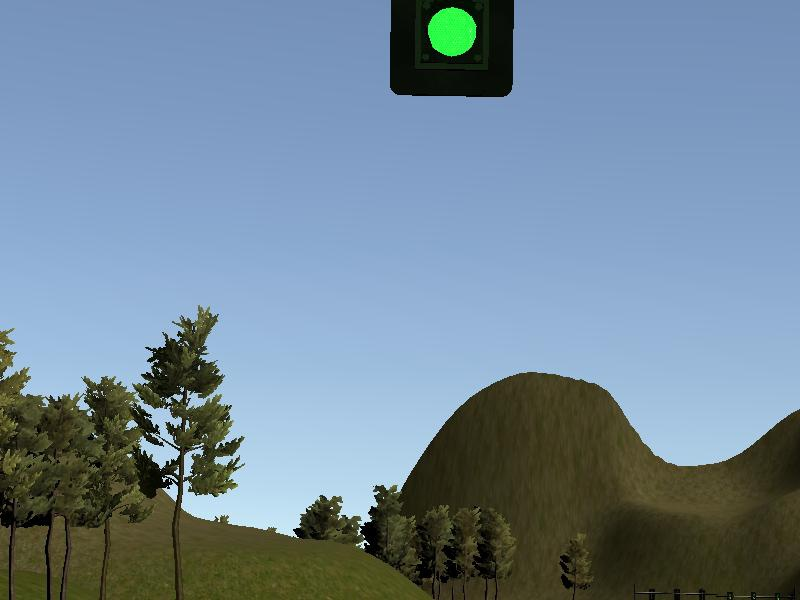green_light: (395, 2, 515, 94)
